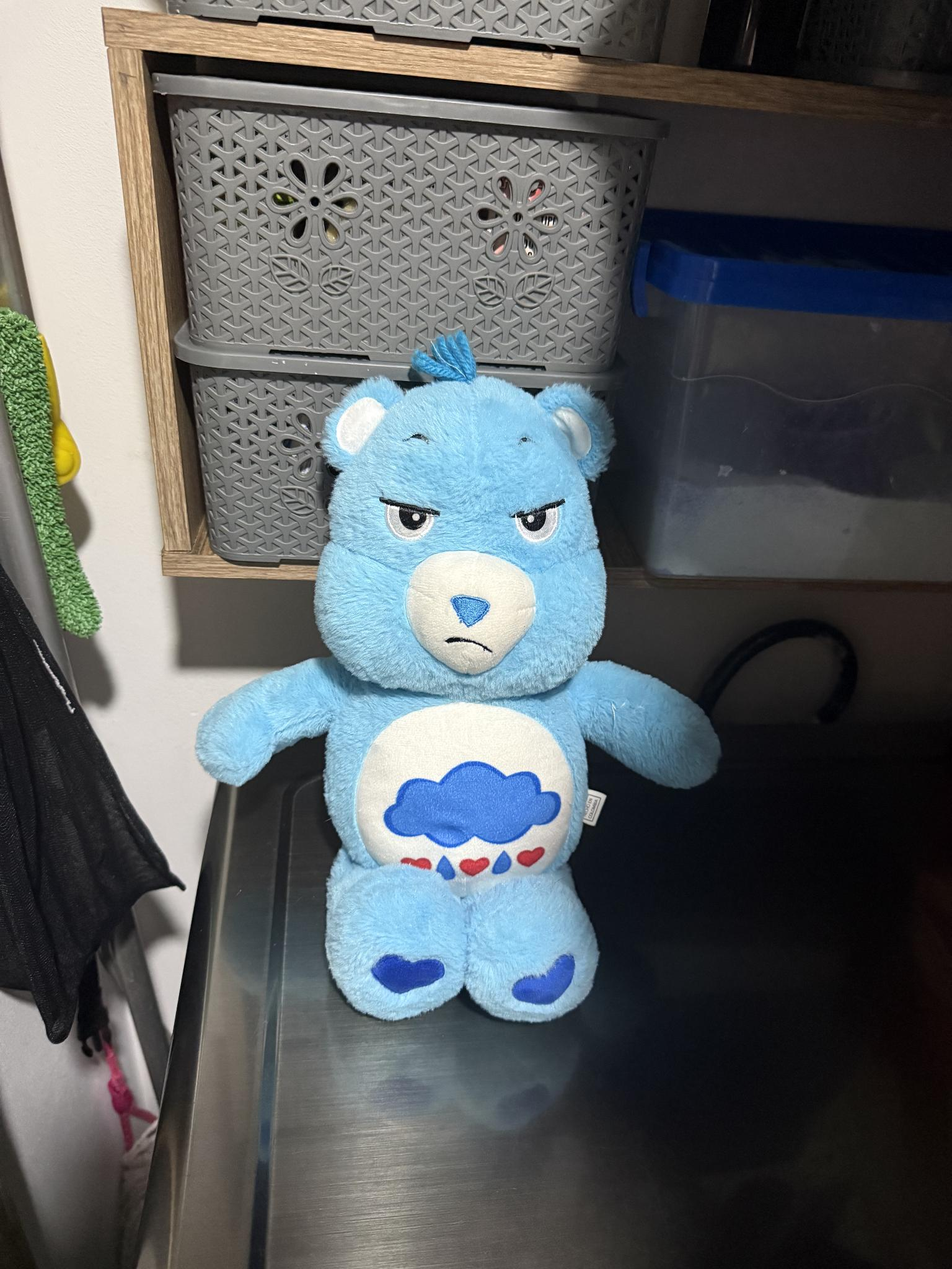peluche_Juan Jose: (191, 342, 738, 1029)
